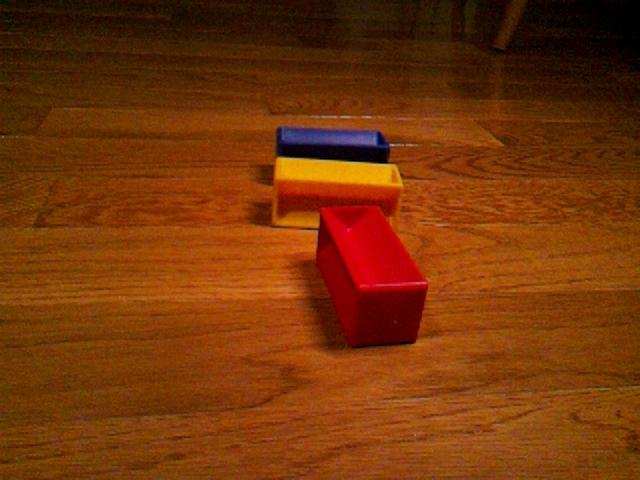blue: (275, 124, 392, 163)
red: (314, 203, 430, 348)
yellow: (271, 155, 405, 230)
